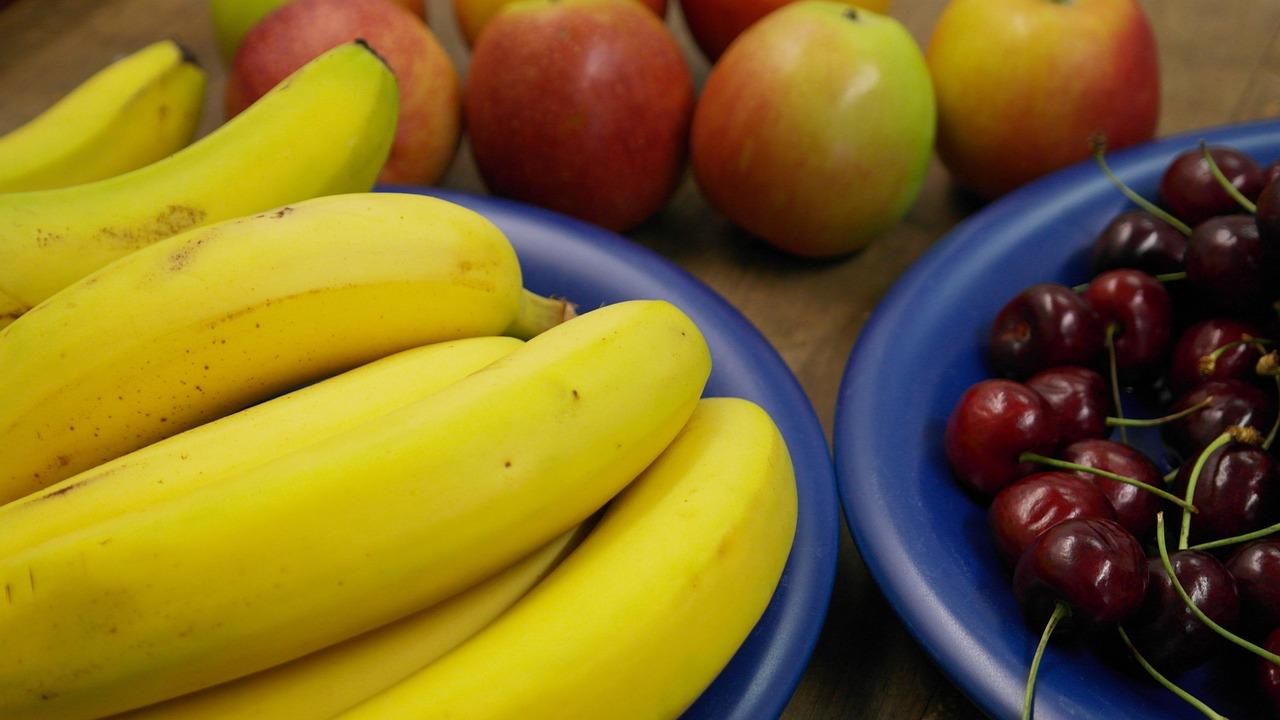banana: (0, 71, 832, 710)
